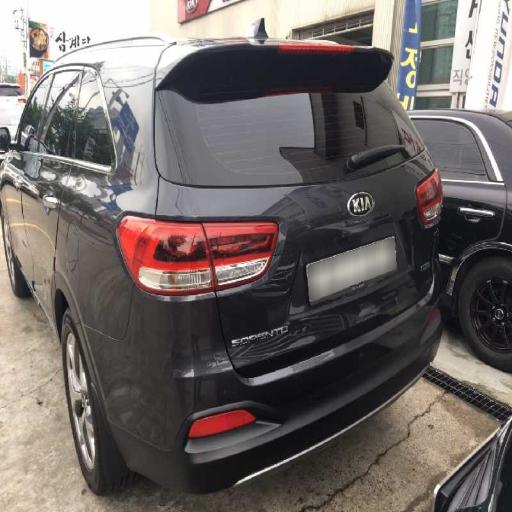scratch: (160, 242, 432, 354)
